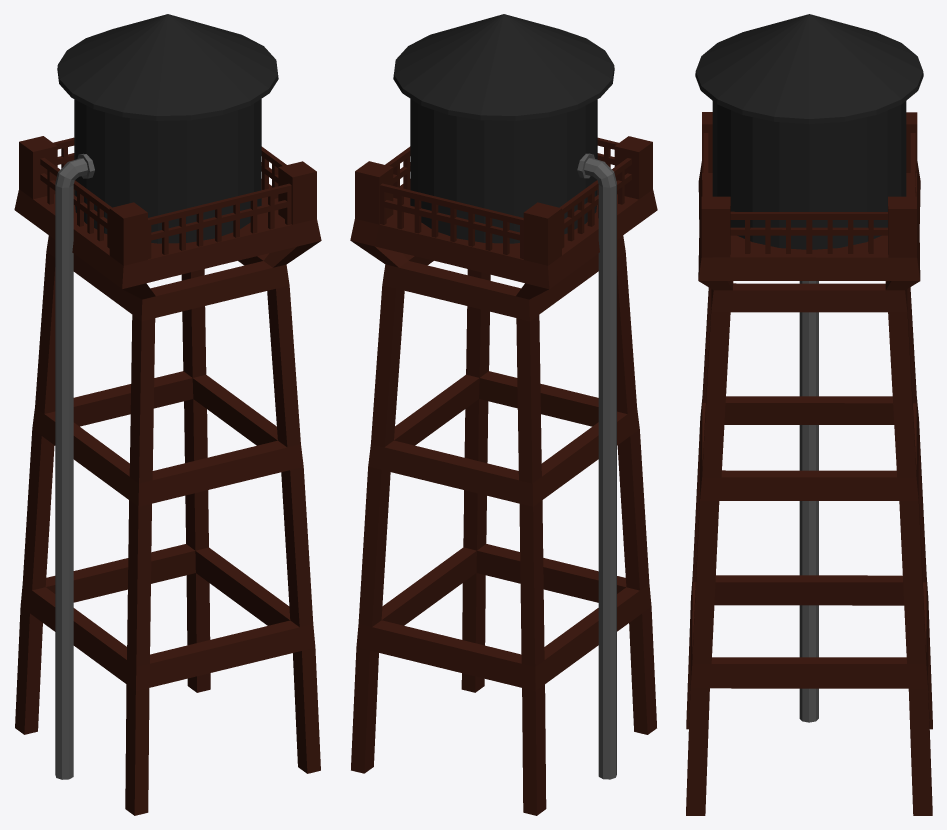
File: WaterTowerA.FBX
The picture shows the model from 3 angles, left to right: view 1: azimuth 30°, elevation 25°; view 2: azimuth 150°, elevation 25°; view 3: azimuth 270°, elevation 25°; orthographic projection. The views are drawn at different scales.
Visible parts, largest first — view 1: WaterTowerA; view 2: WaterTowerA; view 3: WaterTowerA.
Boxes of the visible parts, left/top/right/bottom form: WaterTowerA: left=14, top=14, right=321, bottom=815; WaterTowerA: left=350, top=14, right=657, bottom=815; WaterTowerA: left=686, top=14, right=932, bottom=815.
Size of the model in its own units: 253 by 843 by 249.
